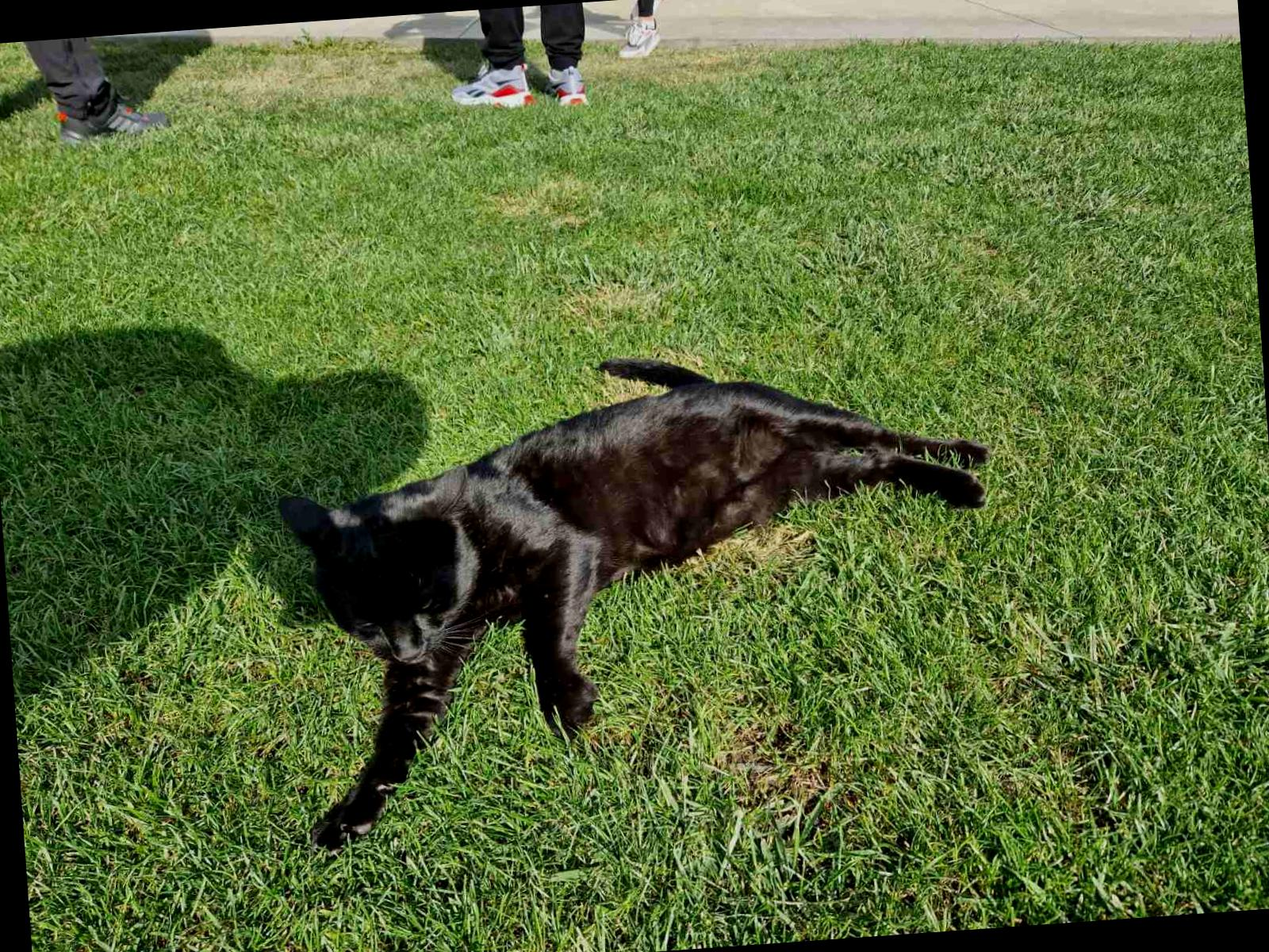macka: (272, 324, 1007, 854)
